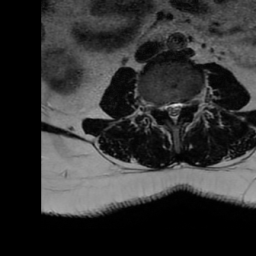CCS_normal: (171, 97, 177, 130)
LFS_stenosis: (184, 94, 192, 113)
LLS_stenosis: (177, 97, 183, 118)
RFS_stenosis: (155, 96, 164, 116)
RLS_stenosis: (164, 98, 171, 119)
